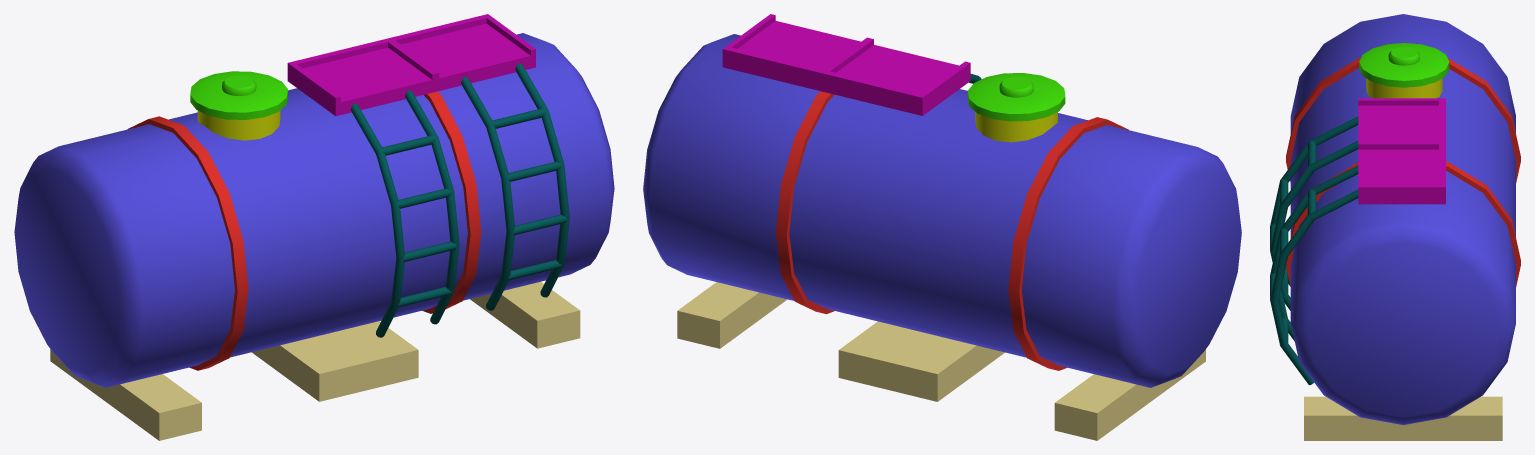
The model's file is uploads_files_2766191_oil+tank_low.fbx.
3 views of the same model, side by side, from view 1: azimuth 30°, elevation 25°; view 2: azimuth 150°, elevation 25°; view 3: azimuth 270°, elevation 25° (orthographic). The views are drawn at different scales.
Parts seen in each view (by area): view 1: oiltank_low; view 2: oiltank_low; view 3: oiltank_low.
Part boxes in pixels (x1,y1,x2,y2): oiltank_low: [14, 14, 614, 440]; oiltank_low: [643, 14, 1241, 440]; oiltank_low: [1270, 14, 1520, 440].
Bounding box in the file's own units: 998 × 551 × 480.
